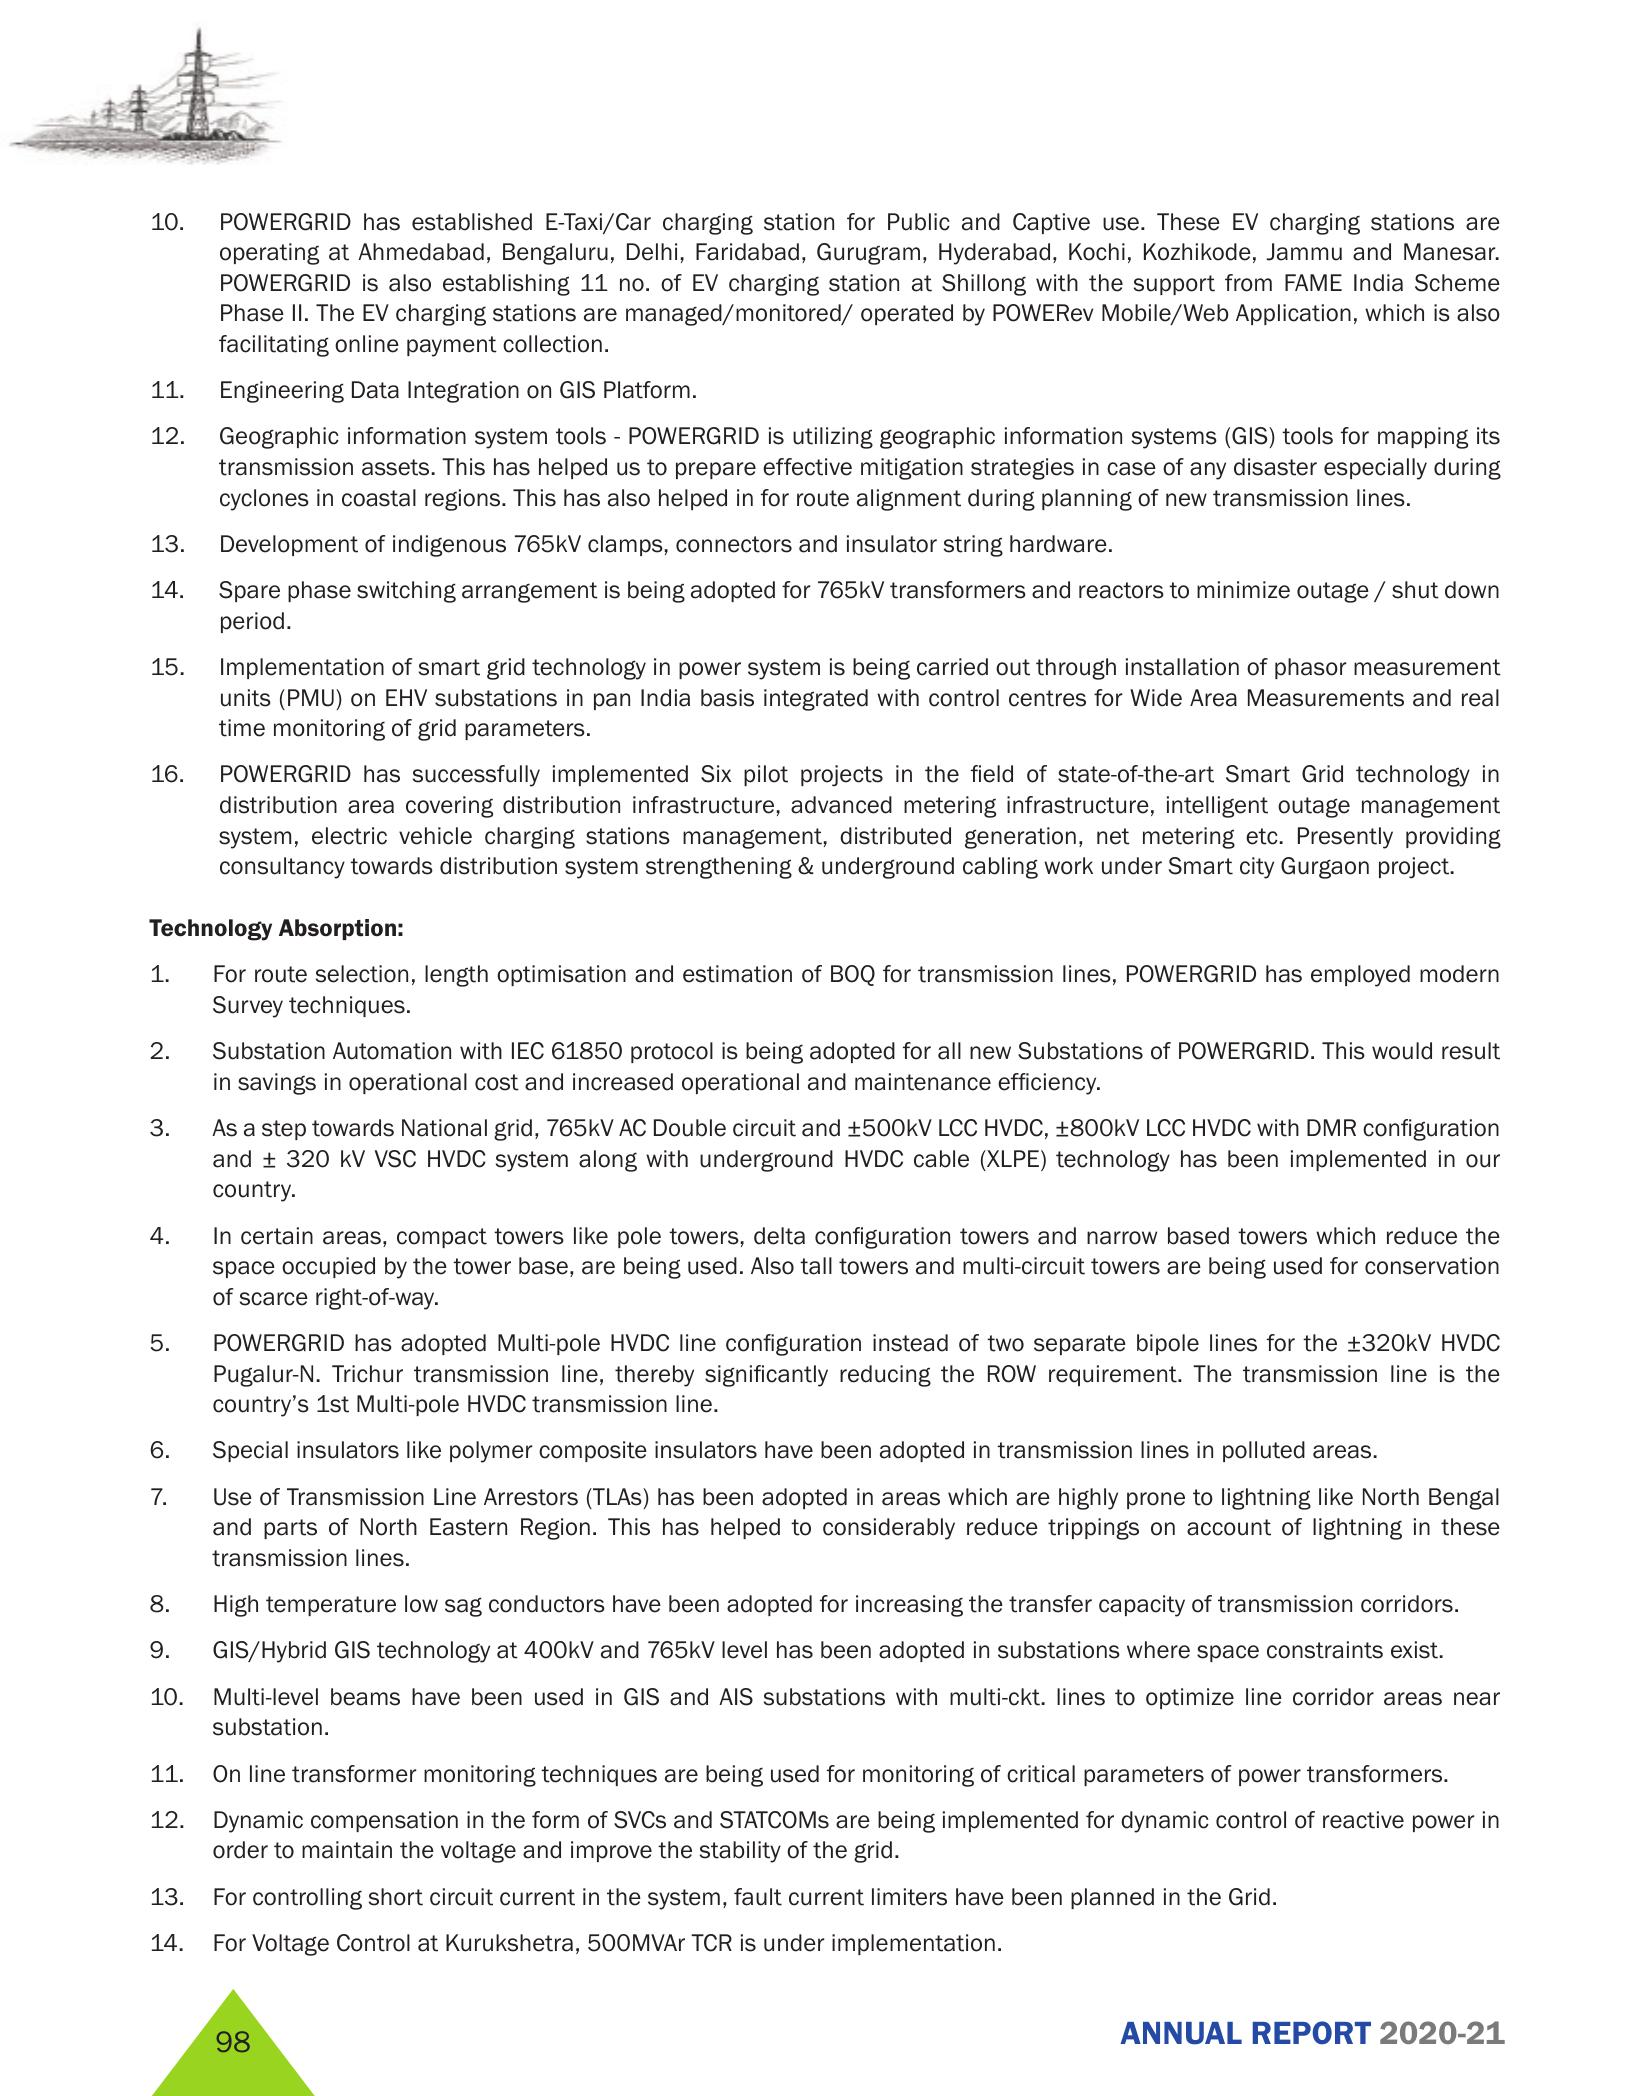Footer: (0, 1979, 1650, 2096)
Header: (0, 0, 1650, 175)
